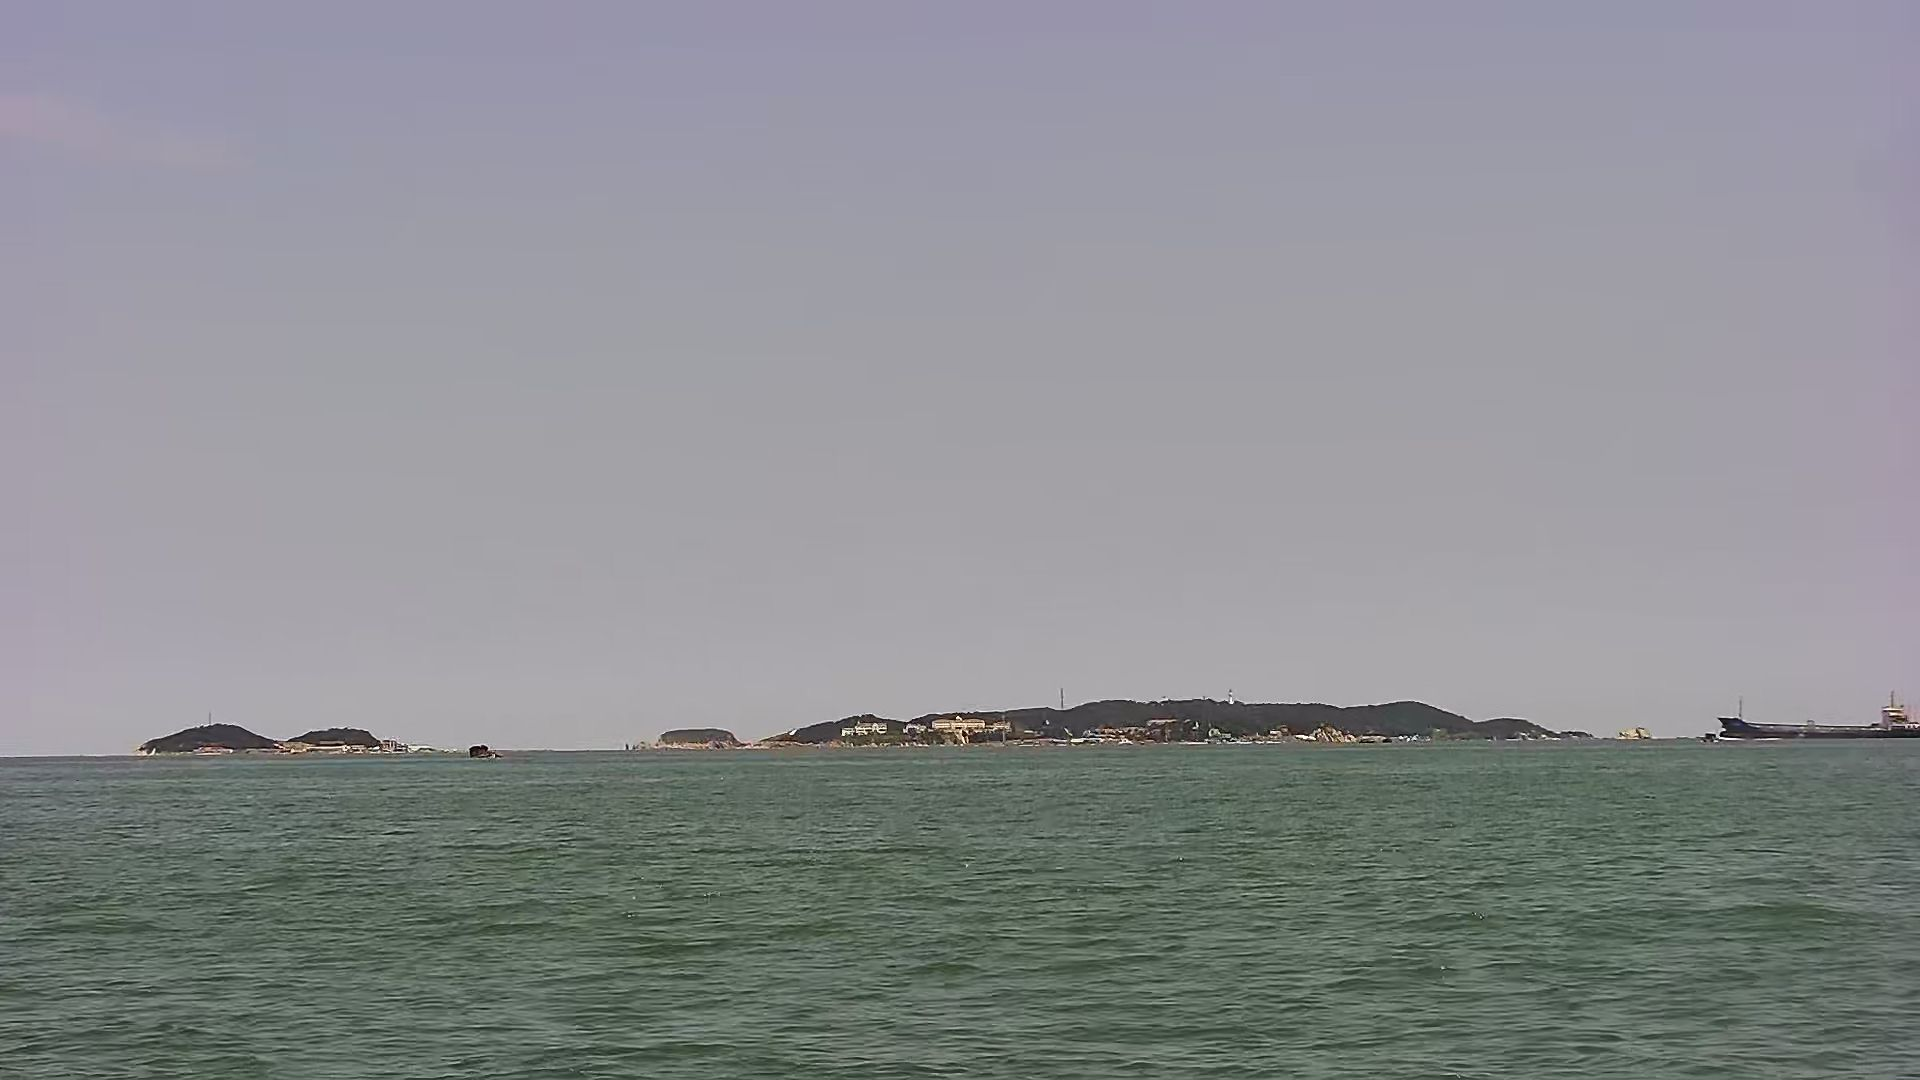rock: (774, 691, 1611, 752), (136, 717, 287, 758), (287, 723, 448, 753), (618, 723, 745, 756)
ship: (1706, 694, 1917, 744)
